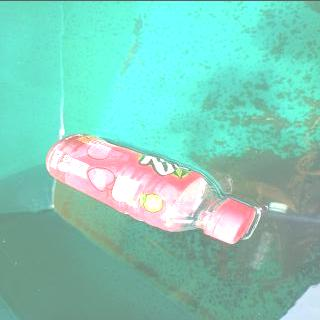bottle: (43, 132, 258, 244)
